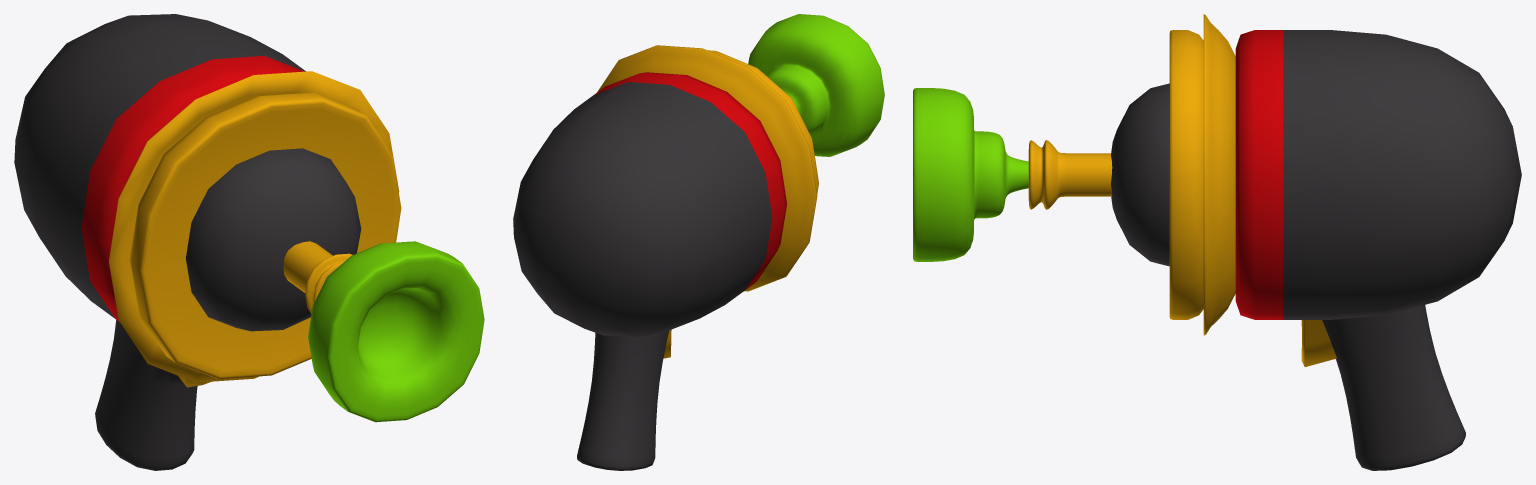
File: Gun.fbx
The picture shows the model from 3 angles, left to right: view 1: azimuth 30°, elevation 25°; view 2: azimuth 150°, elevation 25°; view 3: azimuth 270°, elevation 25°; orthographic projection. The views are drawn at different scales.
Visible parts, largest first — view 1: Gun; view 2: Gun; view 3: Gun.
Boxes of the visible parts, x1,y1,x2,y2 form: Gun: (14,14,484,470); Gun: (513,14,884,470); Gun: (913,14,1521,470).
Size of the model in its own units: 12.13 by 18.15 by 23.26.
